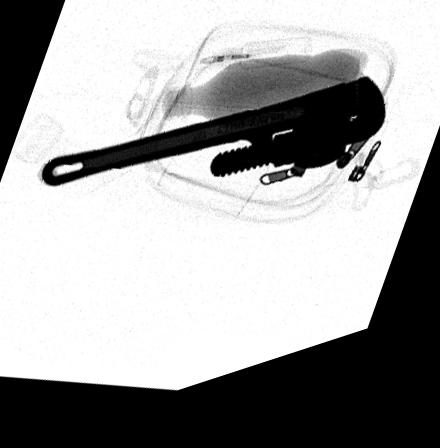Wrench: (40, 103, 385, 194)
